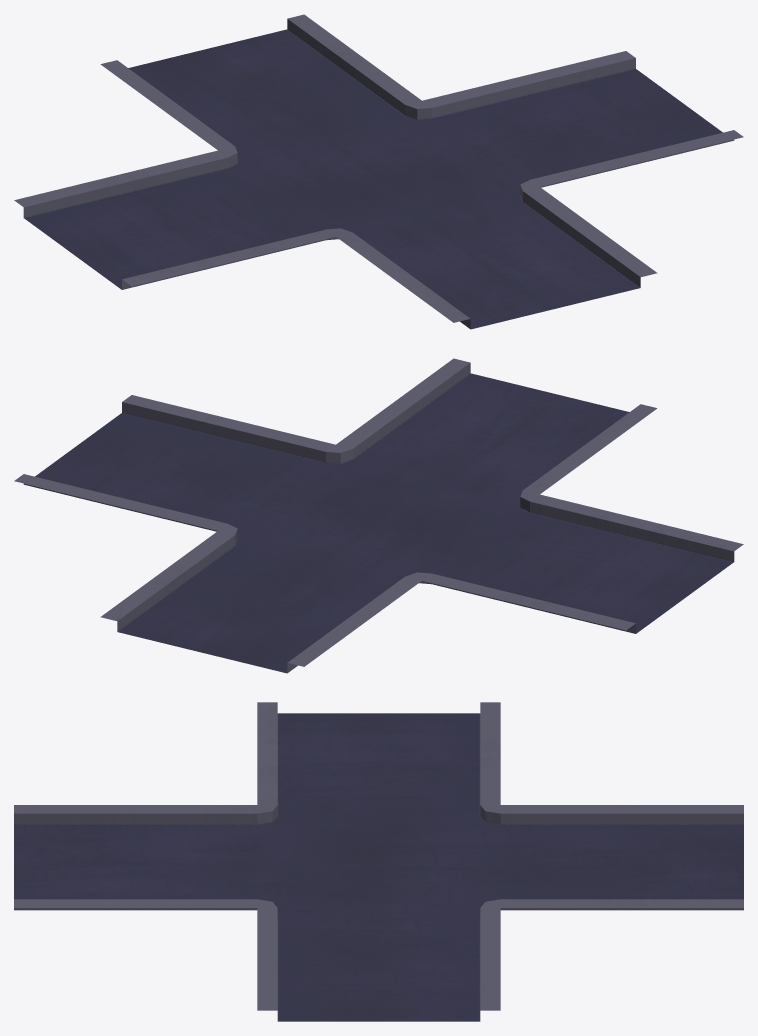
The model's file is jalan _perempatan.fbx.
The picture shows the model from 3 angles, top to bottom: view 1: azimuth 30°, elevation 25°; view 2: azimuth 150°, elevation 25°; view 3: azimuth 270°, elevation 25°; orthographic projection. The views are drawn at different scales.
Visible parts, largest first — view 1: Track_line_type_01_start_finish_15m_free.001; view 2: Track_line_type_01_start_finish_15m_free.001; view 3: Track_line_type_01_start_finish_15m_free.001.
Boxes of the visible parts, box(x1,y1,x2,y2) form: Track_line_type_01_start_finish_15m_free.001: box(14, 14, 743, 329); Track_line_type_01_start_finish_15m_free.001: box(14, 358, 743, 673); Track_line_type_01_start_finish_15m_free.001: box(14, 702, 743, 1021).
Bounding box in the file's own units: 4500 × 75.22 × 4500.
